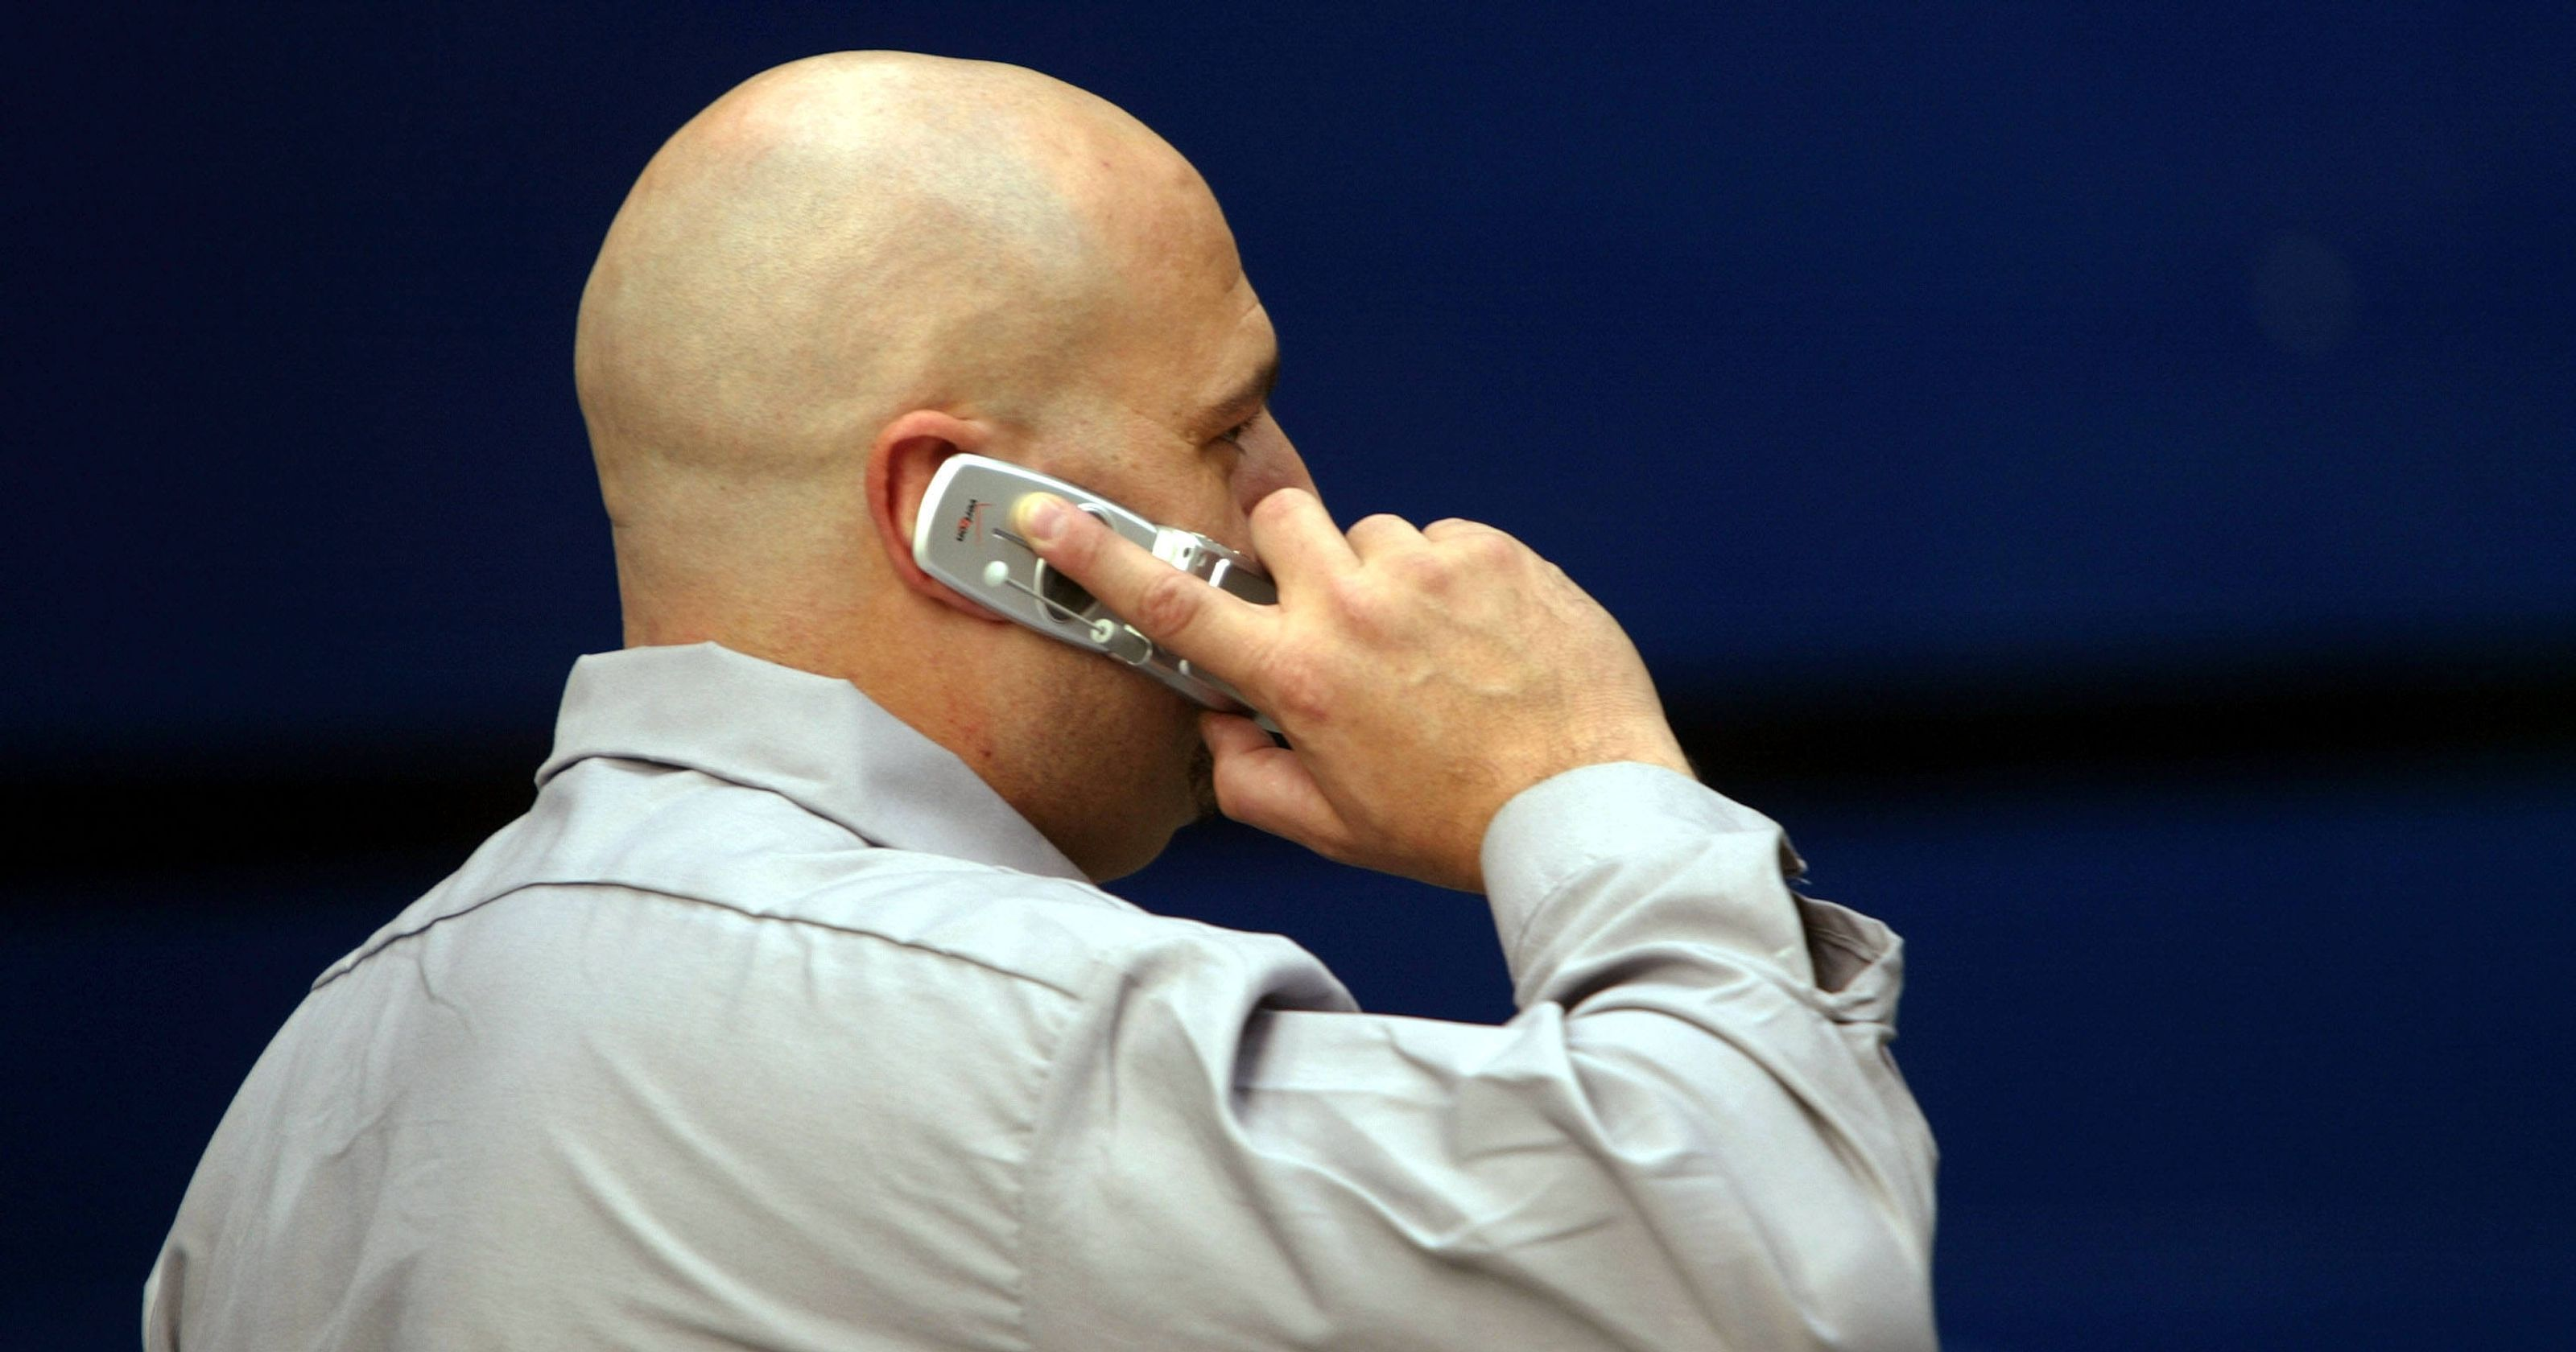phone: (920, 472, 1346, 739)
